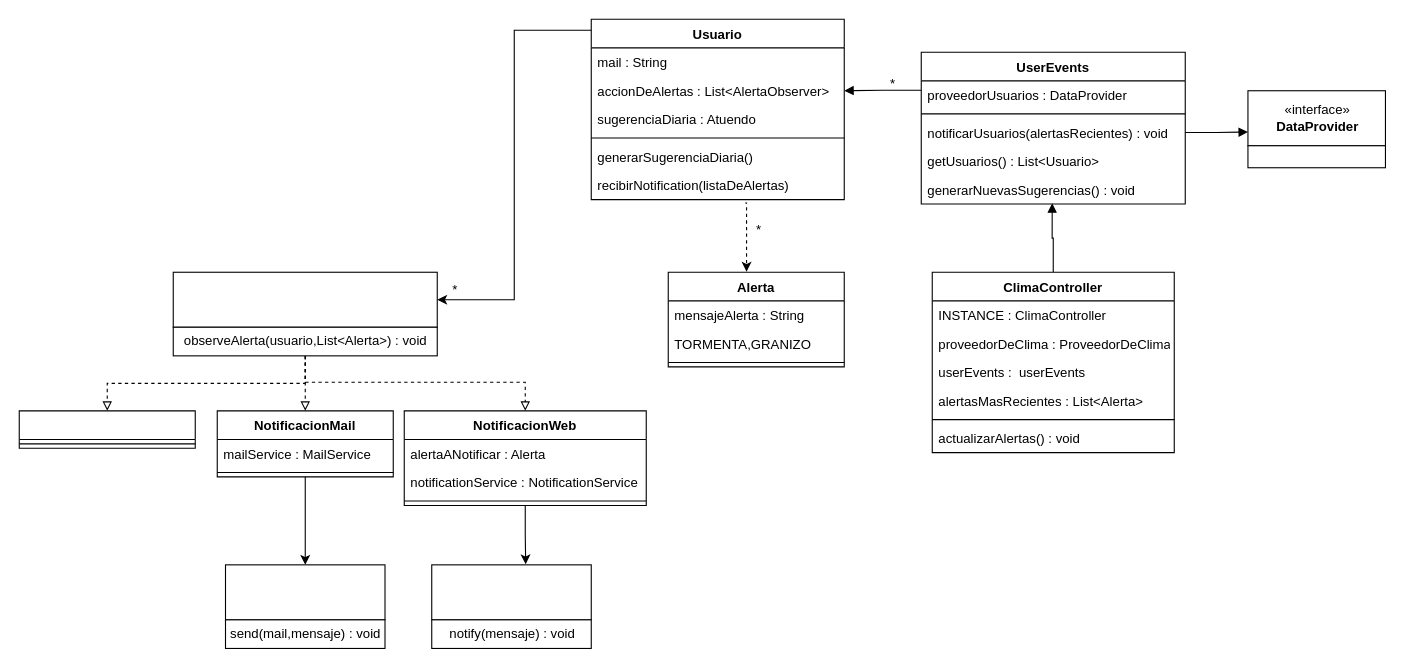
This 1405x668 diagram has some shape labels left out. The shapes that lost their labels are listed below. From the top down, each one's centre as x and y in pixels, then its label:
At (1316,156): "getDataFrom(query)".
At (304,299): "«interface» AlertaObserver".
At (106,429): "ActualizarGuardaropa".
At (304,592): "«interface» MailService".
At (511,592): "«interface» NotificationService".
